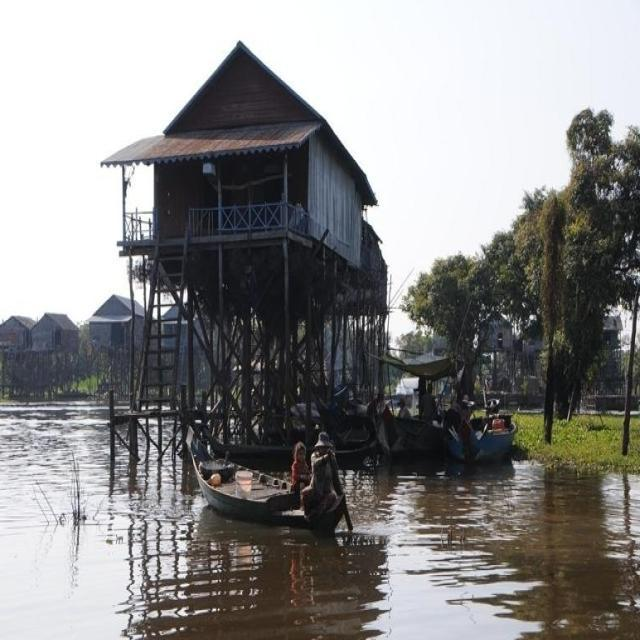boat: (178, 438, 352, 541)
